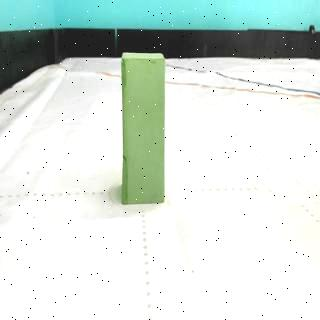greenbox: (120, 50, 166, 206)
